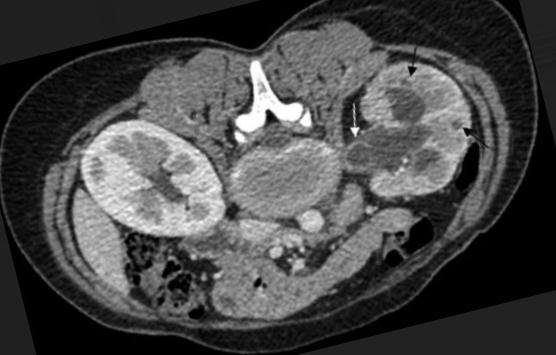anomaly: (344, 143, 381, 173)
